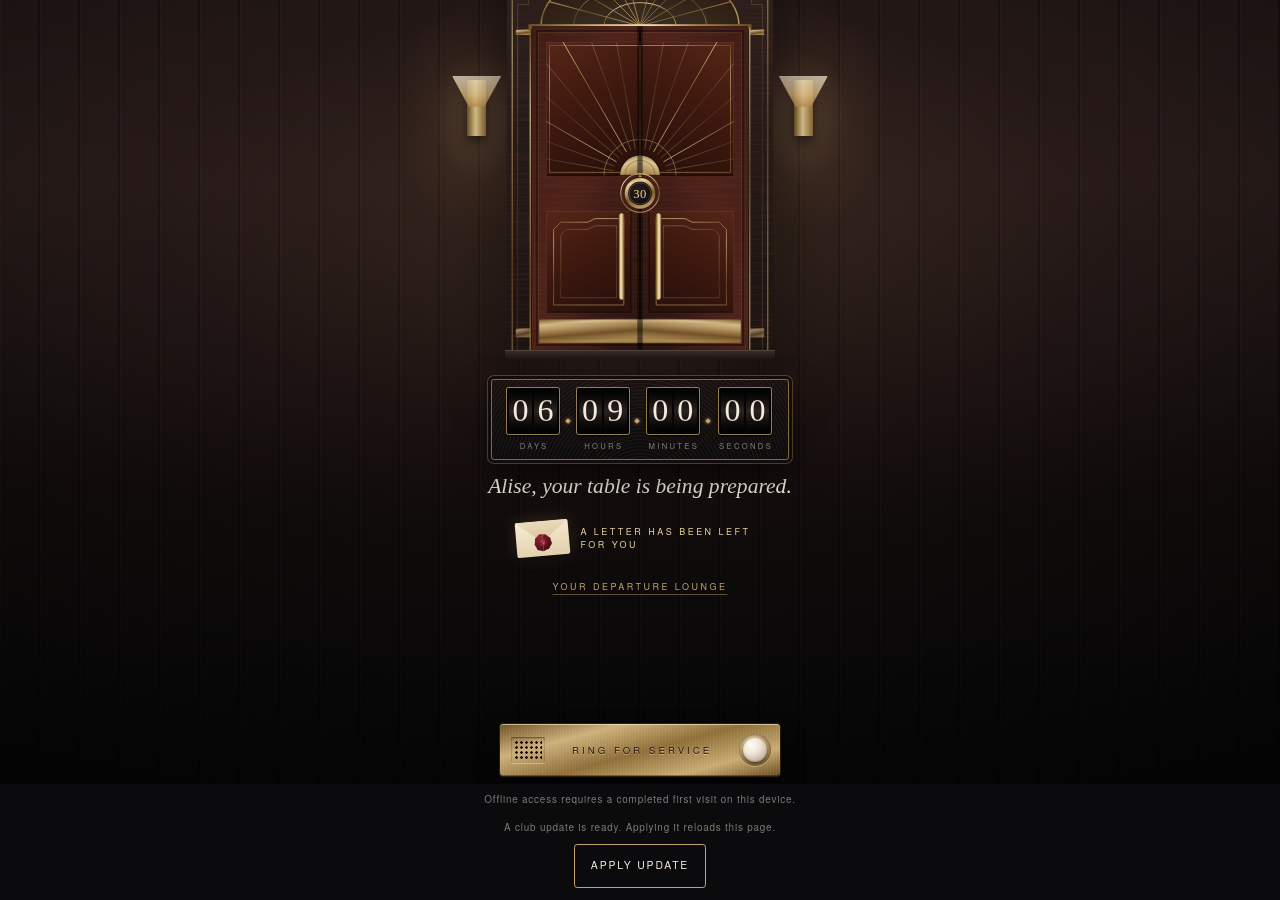
routes and connectivity › reports update failure instead of claiming success
(page scrolled)
Click the button "Apply update" at (640, 866), box [574, 844, 706, 888]
(page scrolled)
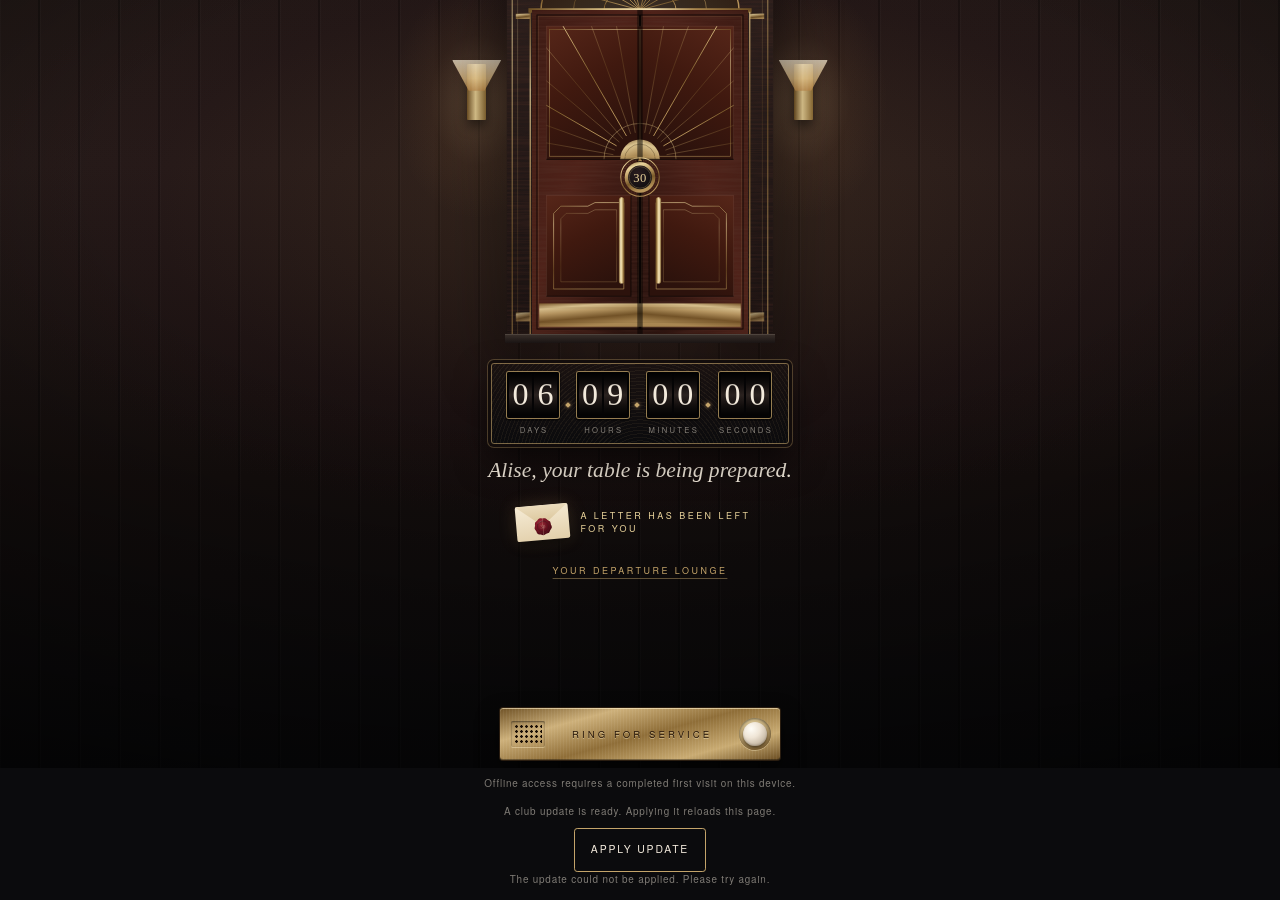
Now the message "The update could not be applied. Please try again." is shown, box [510, 872, 770, 886]
